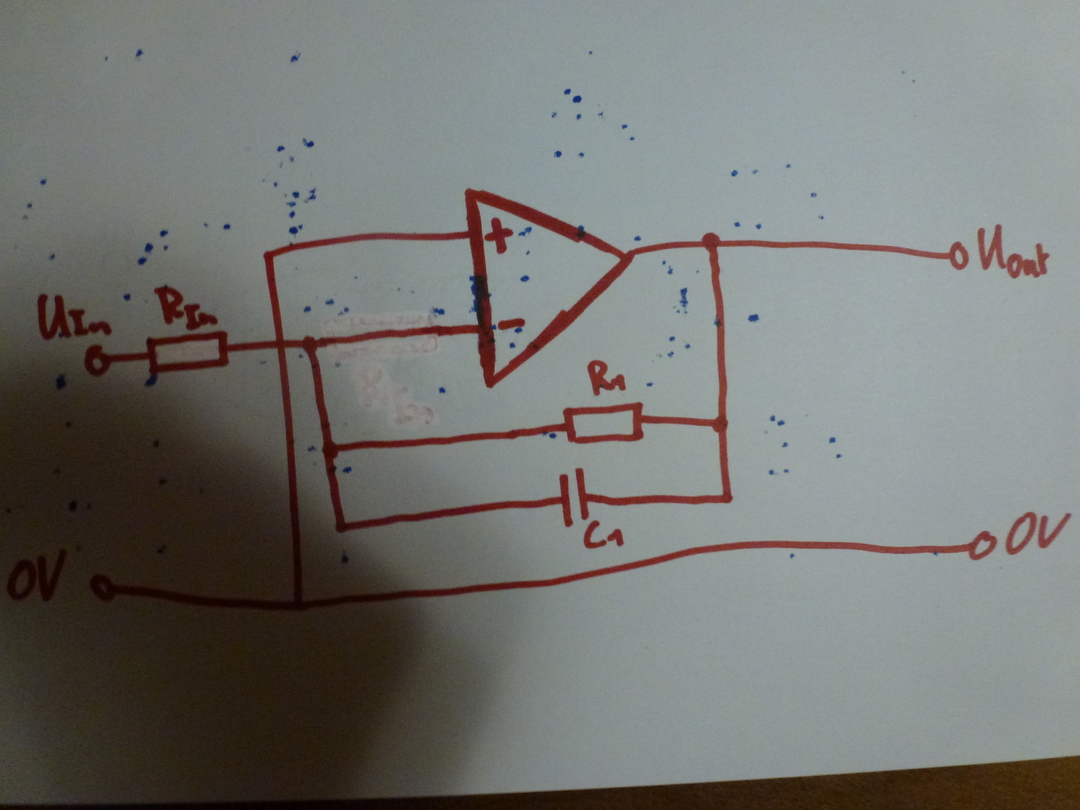capacitor.unpolarized: (553, 464, 599, 530)
crossover: (270, 334, 291, 355)
junction: (699, 229, 724, 253), (299, 333, 322, 355), (710, 413, 731, 436), (320, 439, 343, 460), (287, 593, 306, 615), (331, 517, 350, 537), (718, 489, 737, 508), (259, 247, 279, 264)
operational_amplifier: (463, 186, 635, 387)
resistor: (144, 329, 234, 376), (561, 399, 647, 444)
terminal: (80, 341, 117, 379), (966, 527, 999, 565), (85, 571, 119, 605), (946, 239, 971, 272)
text: (975, 222, 1051, 282), (5, 548, 71, 608), (35, 291, 114, 341), (1002, 509, 1074, 559), (153, 285, 224, 330), (584, 358, 631, 396), (582, 519, 626, 551)
